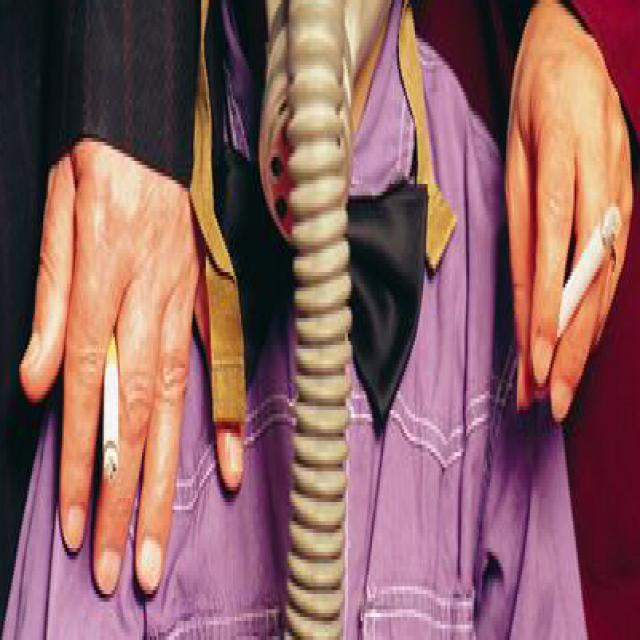smoking: (531, 206, 621, 368), (103, 326, 118, 486)
